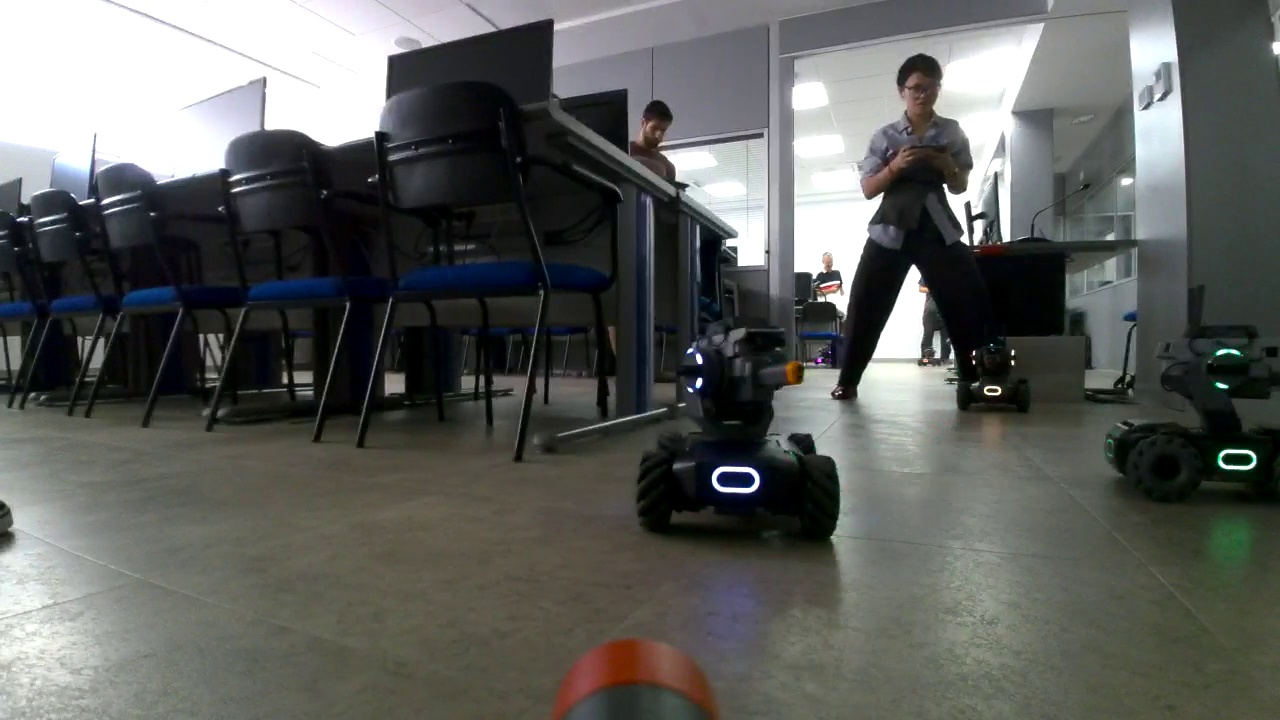robot: (629, 314, 839, 535), (1102, 282, 1280, 501), (953, 330, 1029, 412), (813, 341, 839, 366)
